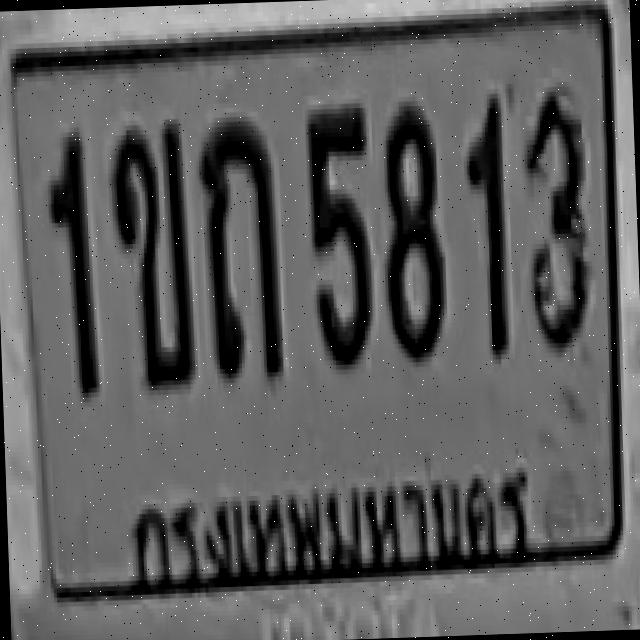1: (43, 126, 96, 398), (462, 95, 509, 358)
11KhorKhai: (105, 116, 191, 389)
3: (520, 88, 590, 350)
31ThorThung: (194, 111, 280, 379)
5: (302, 103, 372, 370)
8: (378, 100, 446, 362)
Bangkok: (116, 446, 544, 600)
